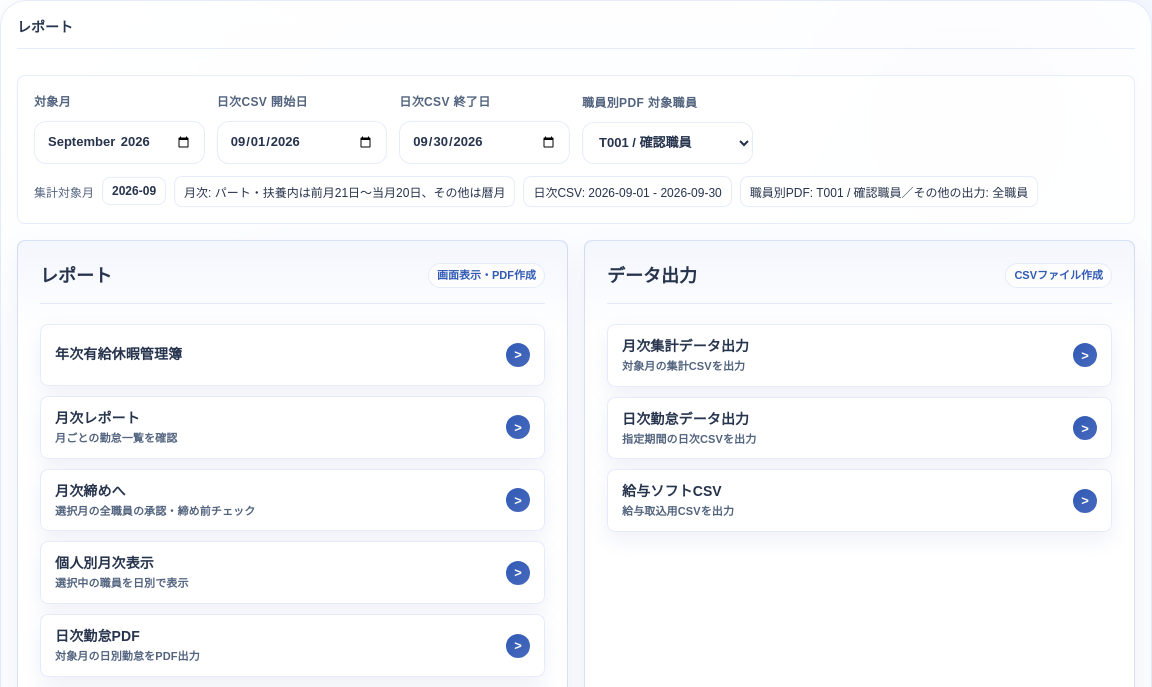
Test case: report scope and month › describes an all-employee export independently of the selected individual
This screenshot has width=1152, height=687.
Click the button "月次集計データ出力 対象月の集計CSVを出力" at (686, 346), box [607, 324, 1112, 387]
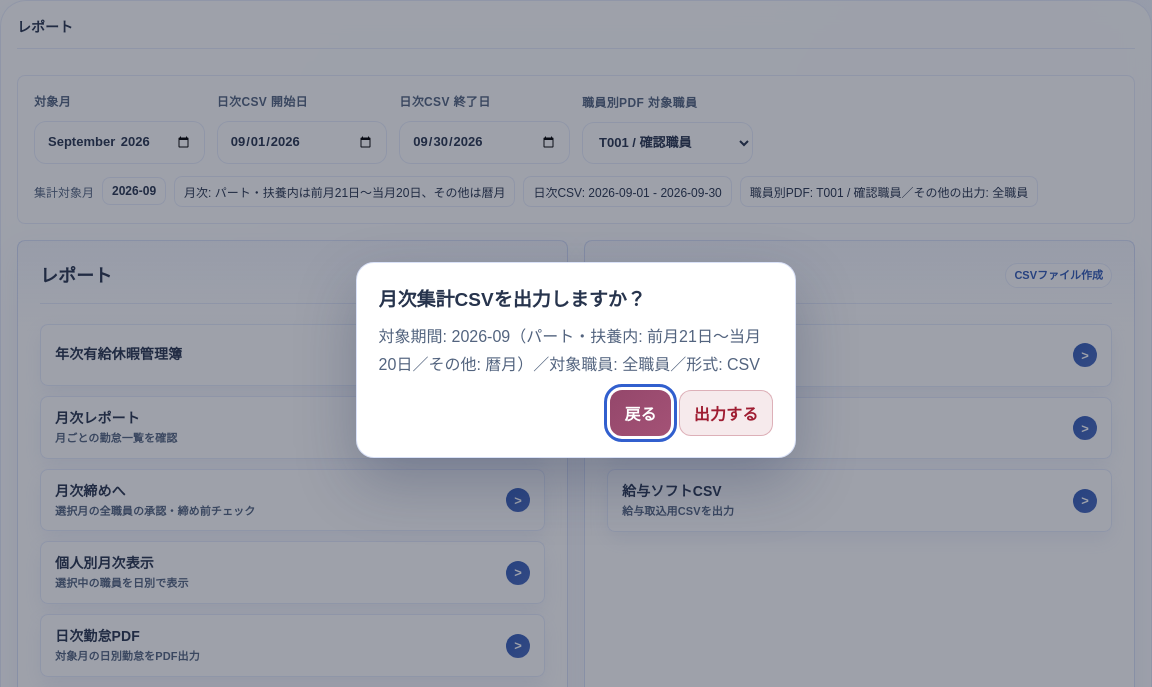
Result: the text "対象職員: 全職員" is shown at [379, 328, 761, 372]
